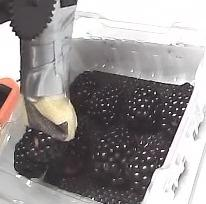berry: (89, 125, 138, 187), (126, 133, 167, 193), (47, 121, 88, 176), (14, 127, 53, 178), (85, 80, 124, 127), (125, 86, 161, 133), (163, 84, 195, 136), (69, 70, 96, 112)
